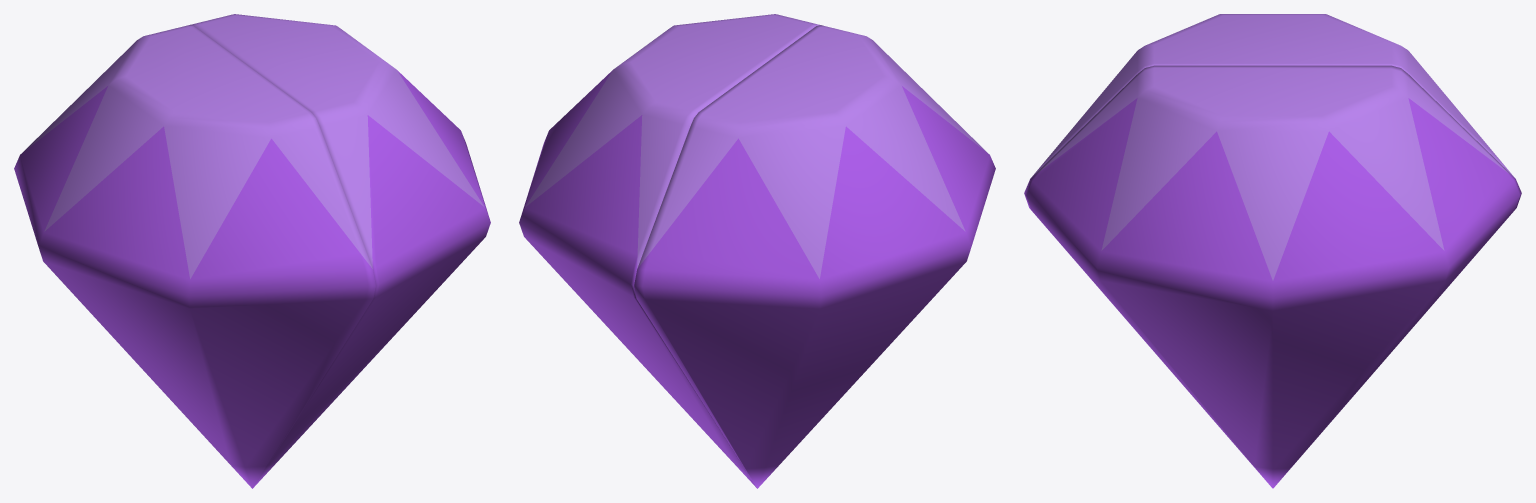
The model's file is SM_Jewel_01a.fbx.
The picture shows the model from 3 angles, left to right: view 1: azimuth 30°, elevation 25°; view 2: azimuth 150°, elevation 25°; view 3: azimuth 270°, elevation 25°; orthographic projection.
Visible parts, largest first — view 1: Jewel_01, Jewel_02; view 2: Jewel_01, Jewel_02; view 3: Jewel_02, Jewel_01.
Part boxes in pixels (x1,y1,x2,y2): Jewel_01: [14, 25, 375, 488]; Jewel_02: [189, 14, 490, 487]; Jewel_01: [634, 25, 995, 488]; Jewel_02: [519, 14, 820, 487]; Jewel_02: [1024, 65, 1521, 488]; Jewel_01: [1030, 14, 1515, 178].
Size of the model in its own units: 26.36 by 24.73 by 26.36.
